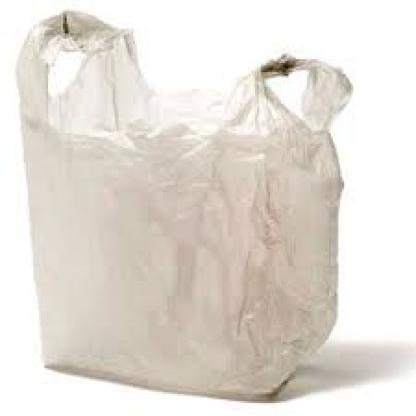trash: (17, 11, 351, 398)
